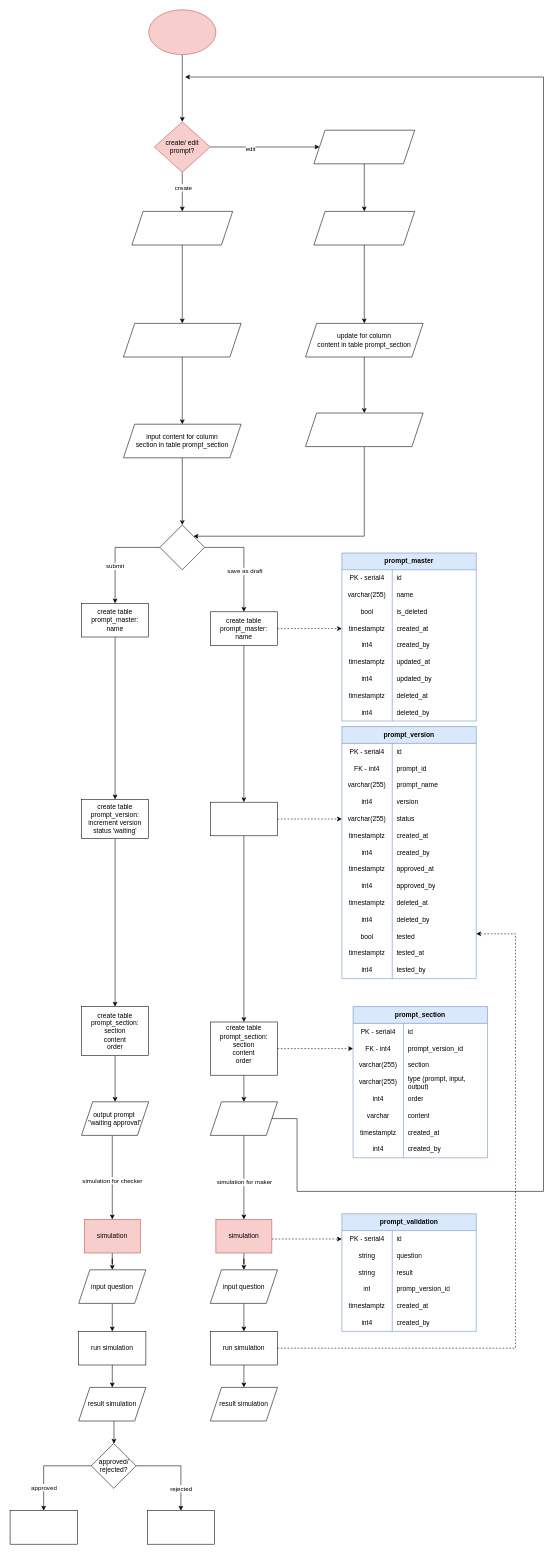
This 558x1554 diagram has some shape labels left out. The shapes that lost their labels are listed below. From the top down, each one's centre as x and y in pixels, then its label:
At point (182, 32): "cms prompt management".
At point (364, 147): "update prompt name for column name in table prompt_master".
At point (182, 228): "input prompt name for column name in table prompt_master".
At point (364, 228): "update section for column section in table prompt_section".
At point (182, 340): "input section for column section in table prompt_section".
At point (364, 429): "update for column order in table prompt_section".
At point (182, 547): "save/ submit?".
At point (243, 819): "create table prompt_version: increment version status 'draft'".
At point (243, 1118): "output draft prompt".
At point (43, 1527): "status: approved".
At point (180, 1527): "status: rejected".
